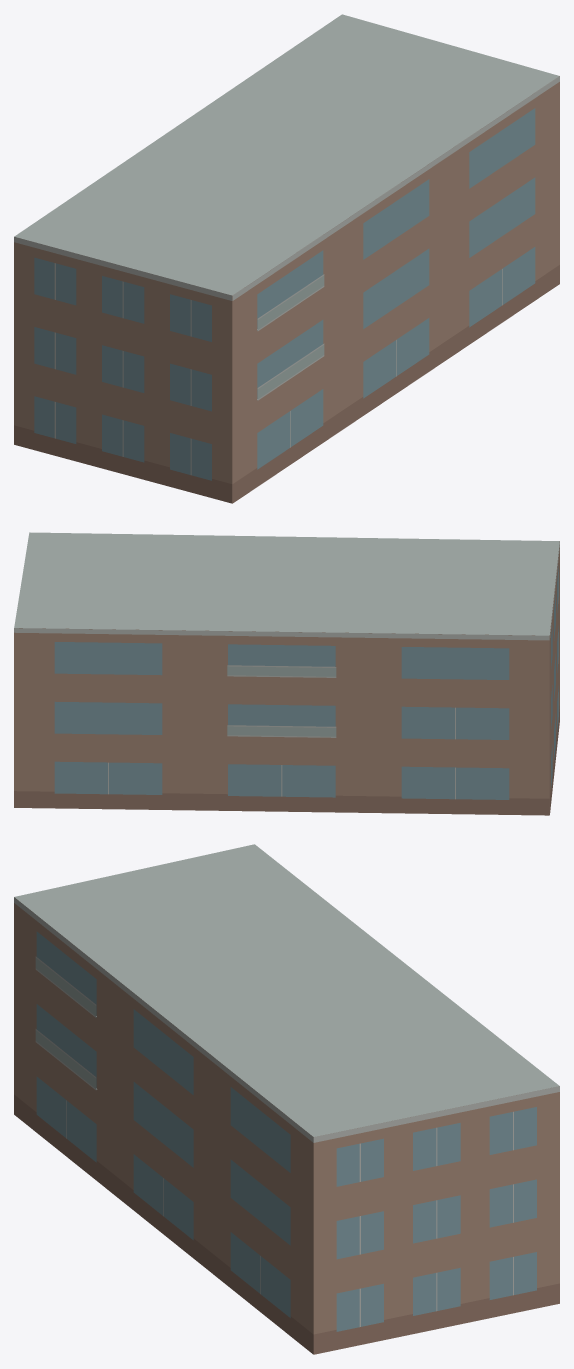
The model's file is survey-upis-33041674.glb.
3 renders of one model, top to bottom at view 1: azimuth 30°, elevation 25°; view 2: azimuth 150°, elevation 25°; view 3: azimuth 270°, elevation 25°, orthographic. The views are drawn at different scales.
Parts seen in each view (by area): view 1: survey-upis-33041674.tmp; view 2: survey-upis-33041674.tmp; view 3: survey-upis-33041674.tmp.
Part boxes in pixels (x1=…): survey-upis-33041674.tmp: x1=14, y1=14, x2=559, y2=503; survey-upis-33041674.tmp: x1=14, y1=532, x2=559, y2=815; survey-upis-33041674.tmp: x1=14, y1=844, x2=559, y2=1354.
Bounding box in the file's own units: 26.43 × 9.15 × 20.81.
